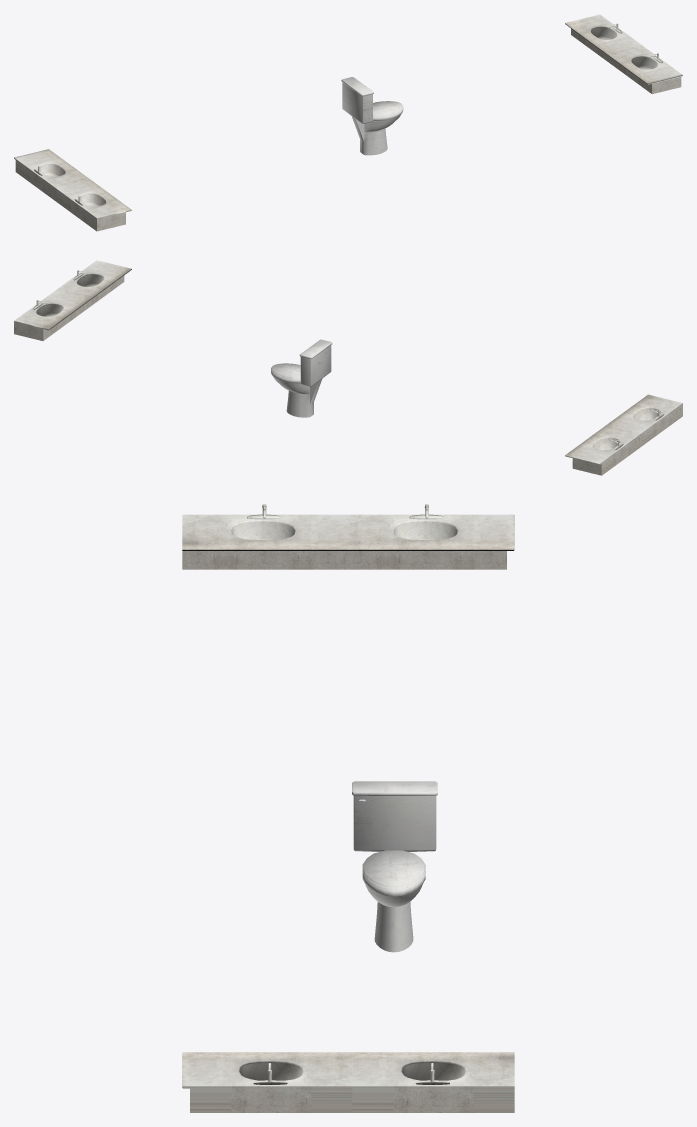
The model's file is Toilet.fbx.
The picture shows the model from 3 angles, top to bottom: view 1: azimuth 30°, elevation 25°; view 2: azimuth 150°, elevation 25°; view 3: azimuth 270°, elevation 25°; orthographic projection. The views are drawn at different scales.
Visible parts, largest first — view 1: classname_mesh_001; view 2: classname_mesh_001; view 3: classname_mesh_001.
Part boxes in pixels (bbox=[...]): classname_mesh_001: bbox=[14, 14, 682, 231]; classname_mesh_001: bbox=[14, 260, 682, 475]; classname_mesh_001: bbox=[182, 504, 514, 1112].
Size of the model in its own units: 1562 by 175 by 383.
Materials: 2 (2 with a texture image).
